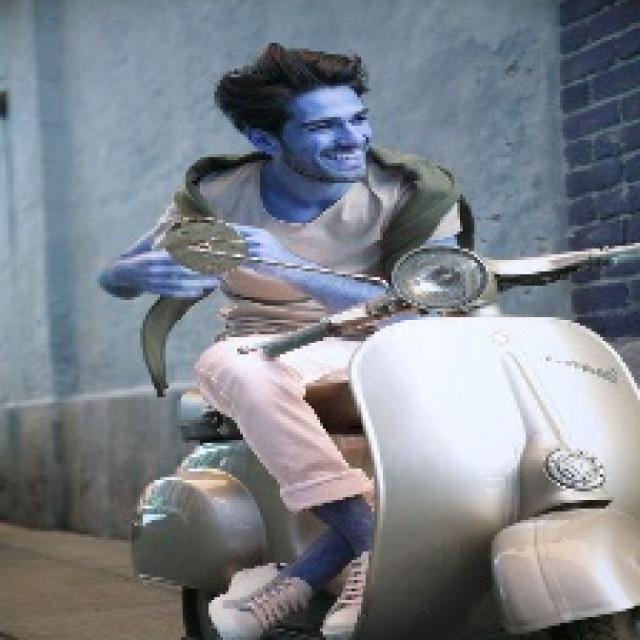bike: (292, 248, 631, 640)
